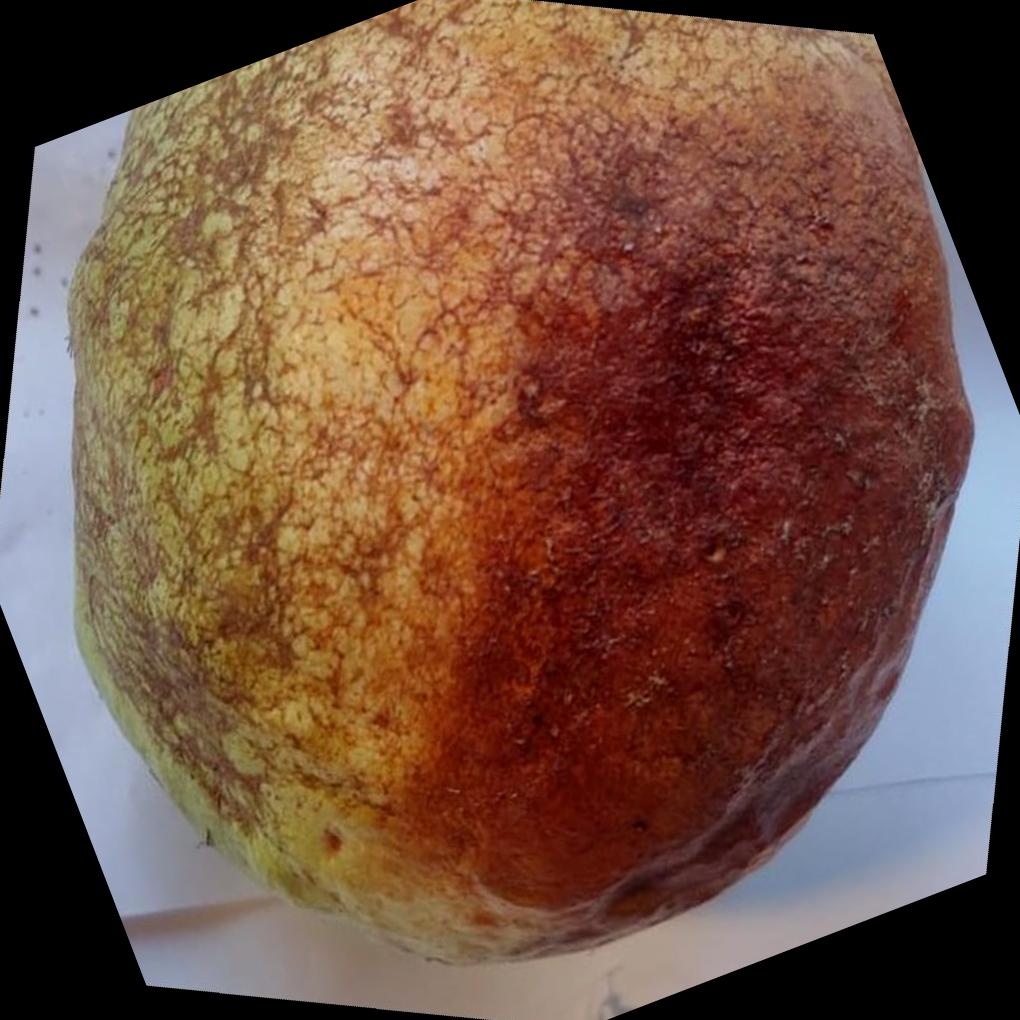FreshOrange: (66, 0, 977, 972)
